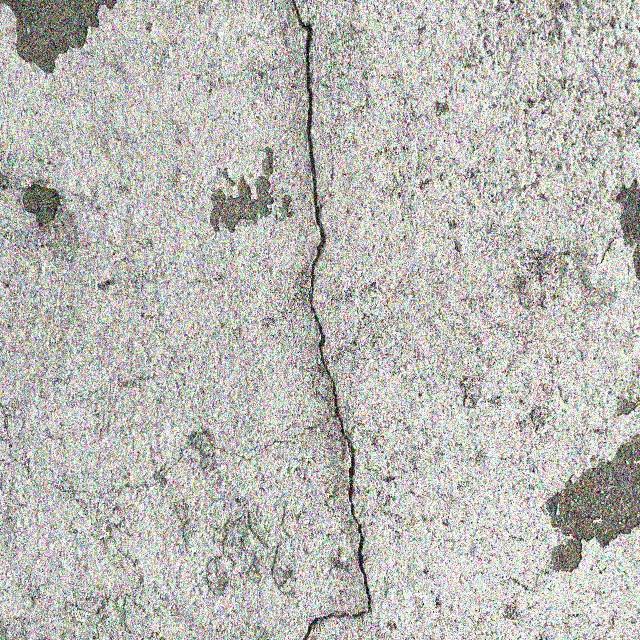SurfaceCrack: (249, 0, 406, 640)
